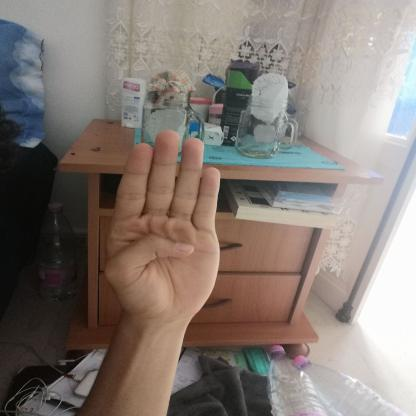KAAF: (87, 122, 235, 336)
